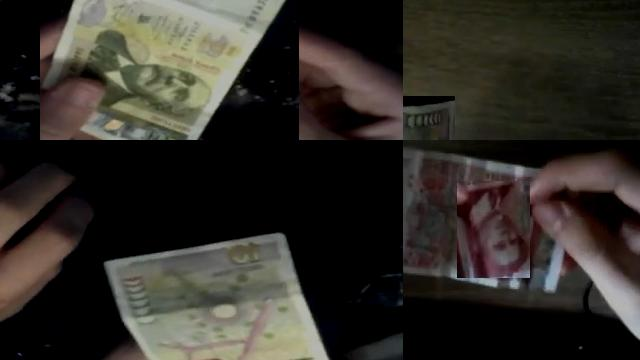10leva: (40, 0, 285, 140), (101, 230, 331, 360)
5leva: (457, 181, 530, 278)
